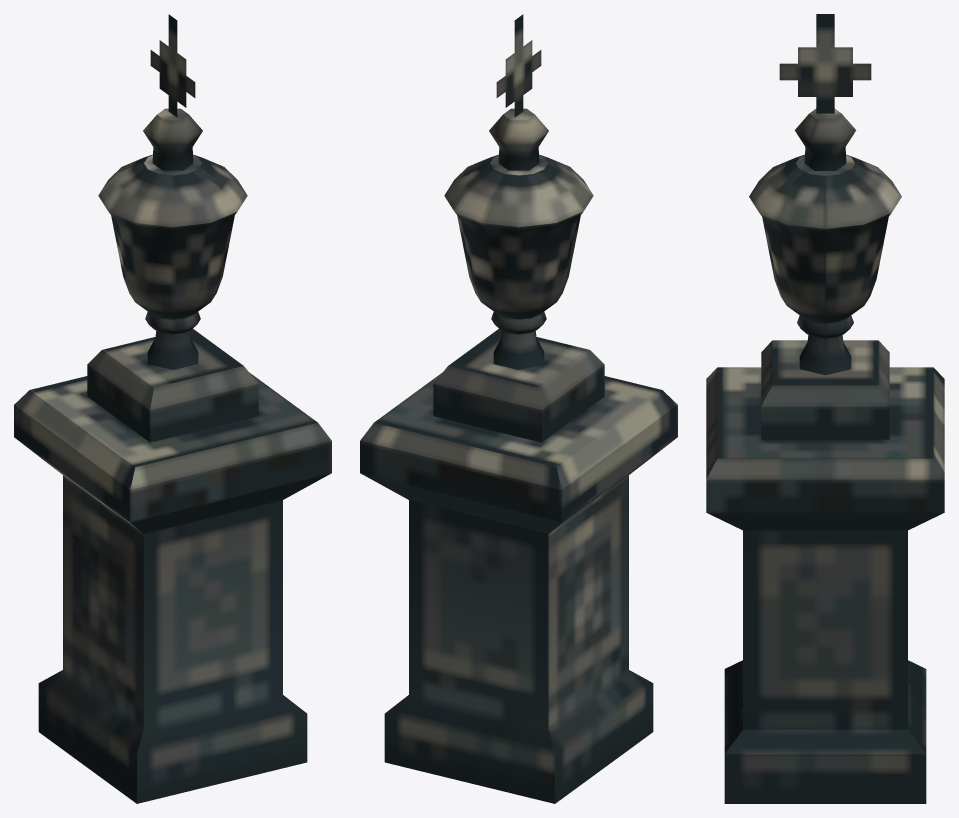
File: EnvMdrMD_Daiseidou_A_Fence_Post_Deco_A.FBX
3 views of the same model, side by side, from view 1: azimuth 30°, elevation 25°; view 2: azimuth 150°, elevation 25°; view 3: azimuth 270°, elevation 25° (orthographic). The views are drawn at different scales.
Visible parts, largest first — view 1: EnvMdrMD_Daiseidou_A_Fence_Post_Deco_A; view 2: EnvMdrMD_Daiseidou_A_Fence_Post_Deco_A; view 3: EnvMdrMD_Daiseidou_A_Fence_Post_Deco_A.
Boxes of the visible parts, box(x1,y1,x2,y2) form: EnvMdrMD_Daiseidou_A_Fence_Post_Deco_A: box(14, 14, 331, 803); EnvMdrMD_Daiseidou_A_Fence_Post_Deco_A: box(360, 14, 677, 803); EnvMdrMD_Daiseidou_A_Fence_Post_Deco_A: box(706, 14, 944, 803).
Bounding box in the file's own units: 65 × 225 × 65.
1 material, 1 textured.
